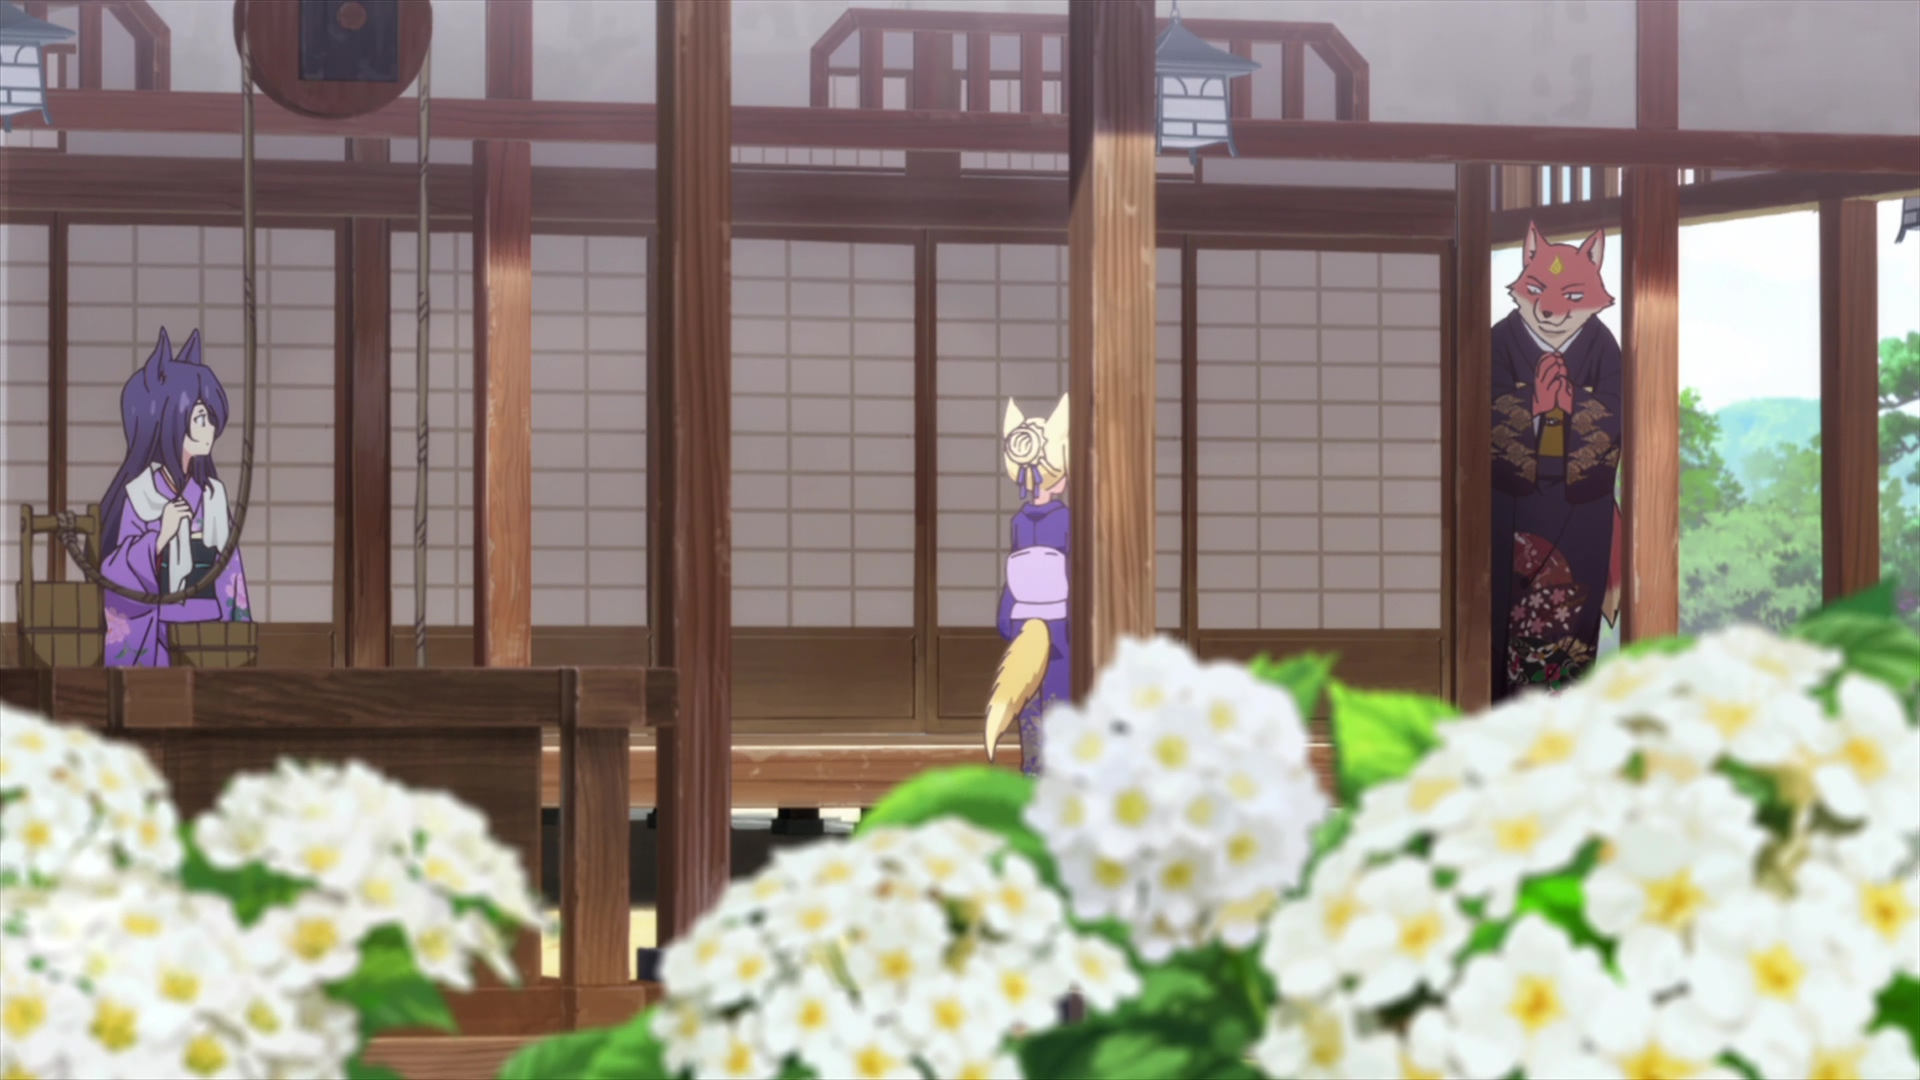桐: (984, 394, 1069, 774)
椿: (1491, 223, 1623, 702)
皋: (100, 327, 255, 665)
